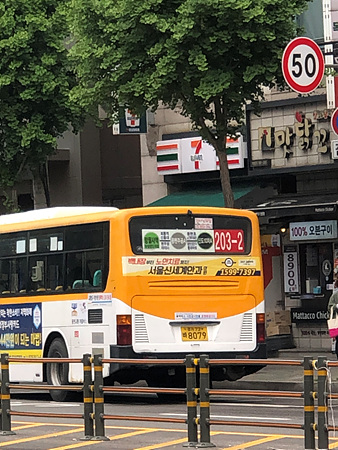bnum: (213, 230, 244, 252)
